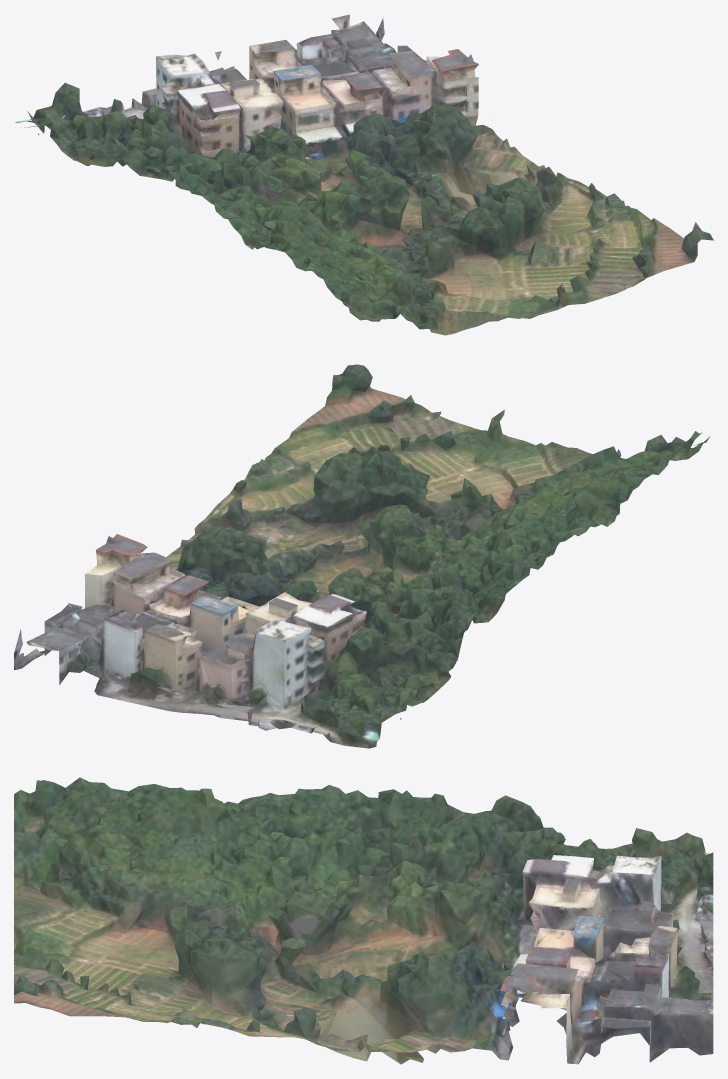
Rendered from Tile__006__002_L18_0000t1.glb.
The picture shows the model from 3 angles, top to bottom: view 1: azimuth 30°, elevation 25°; view 2: azimuth 150°, elevation 25°; view 3: azimuth 270°, elevation 25°; orthographic projection. The views are drawn at different scales.
Parts seen in each view (by area): view 1: root; view 2: root; view 3: root.
Part boxes in pixels (<box>): root: <box>15,14,713,335</box>; root: <box>14,364,709,748</box>; root: <box>14,777,713,1064</box>.
Bounding box in the file's own units: 62.64 × 20.68 × 101.
2 materials, 2 textured.
